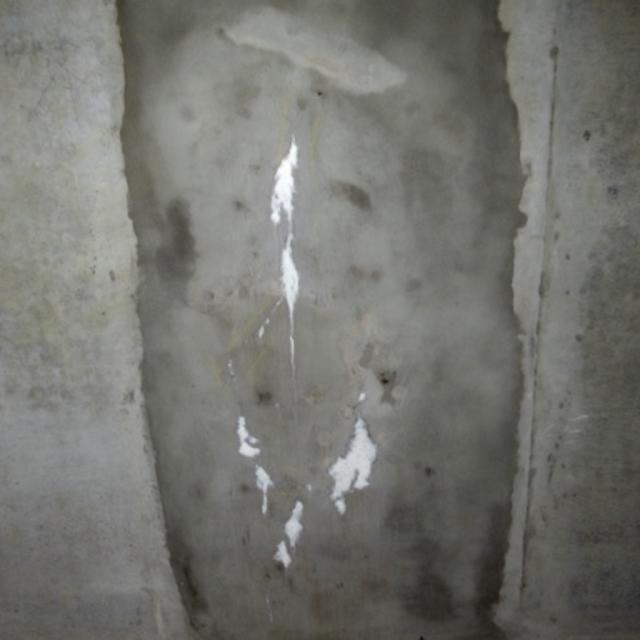D01: (330, 418, 377, 512), (270, 138, 297, 223), (274, 498, 305, 569), (238, 414, 261, 457), (254, 466, 273, 512)
